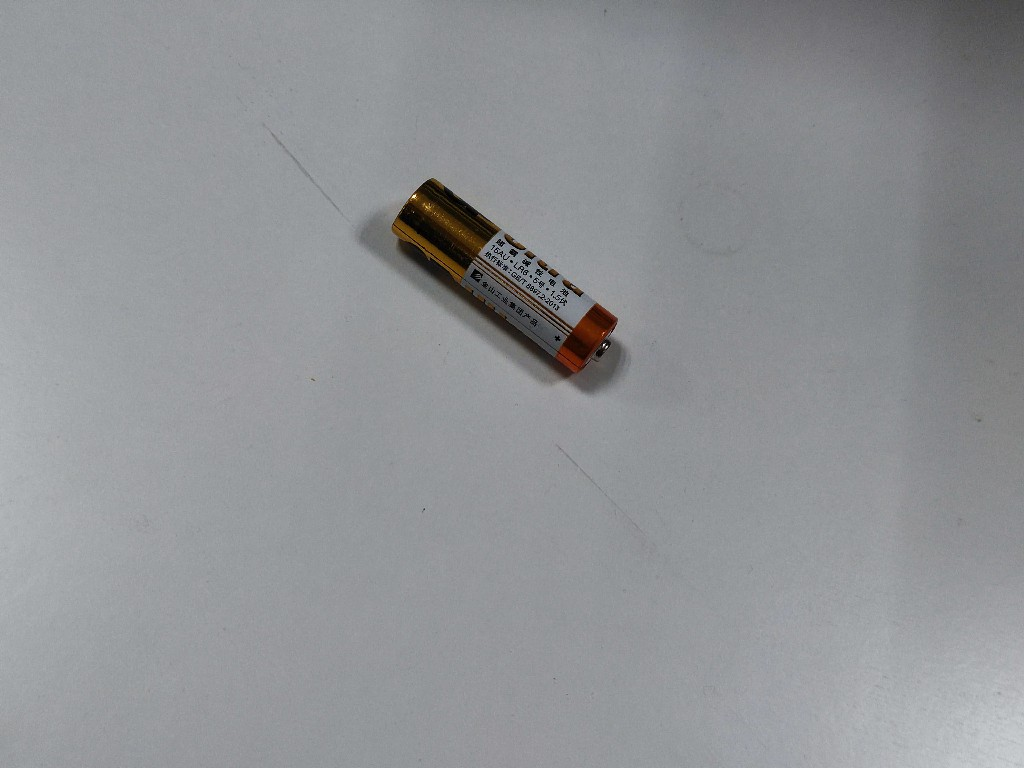charge: (390, 176, 622, 381)
